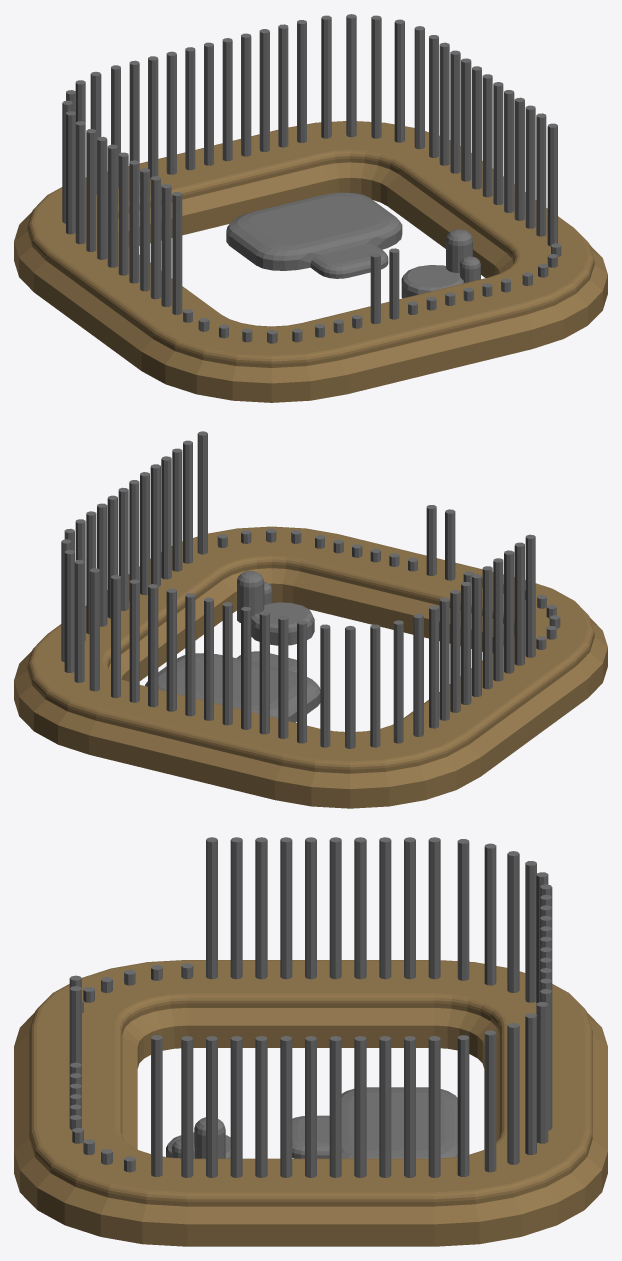
File: Kandang Hippo.fbx
3 renders of one model, top to bottom at view 1: azimuth 30°, elevation 25°; view 2: azimuth 150°, elevation 25°; view 3: azimuth 270°, elevation 25°, orthographic. The views are drawn at different scales.
Parts seen in each view (by area): view 1: Base vens, Lane.004, Lane; view 2: Base vens, Lane.004, Lane; view 3: Base vens, Lane.004, Lane.
Boxes of the visible parts, bbox=[...] form: Base vens: bbox=[14, 121, 607, 402]; Lane.004: bbox=[62, 14, 561, 343]; Lane: bbox=[226, 192, 480, 298]; Base vens: bbox=[14, 526, 607, 808]; Lane.004: bbox=[61, 431, 560, 748]; Lane: bbox=[145, 571, 320, 722]; Base vens: bbox=[14, 960, 607, 1246]; Lane.004: bbox=[69, 837, 552, 1177]; Lane: bbox=[166, 1087, 457, 1158].
Size of the model in its own units: 2400 by 820 by 2400.
